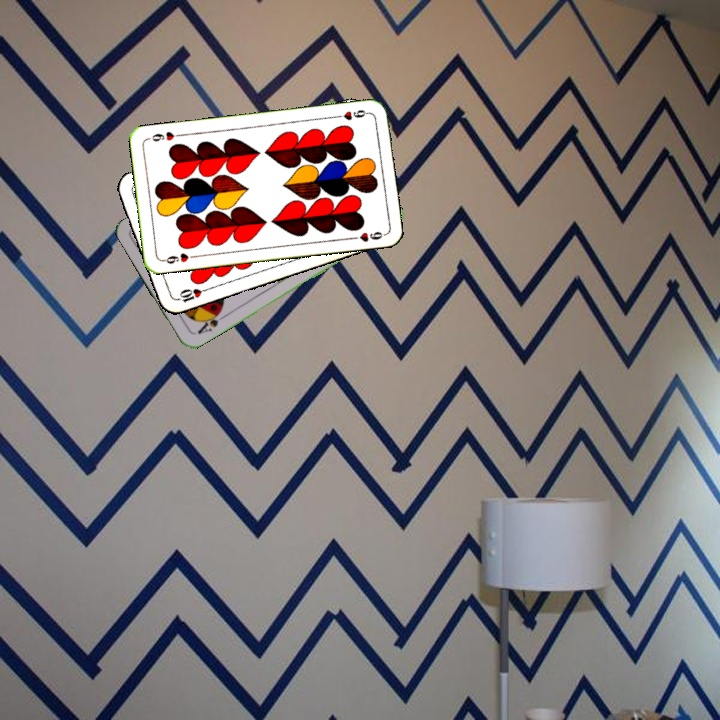H10: (171, 284, 210, 305)
H9: (158, 249, 199, 266), (331, 106, 372, 123)
SA: (193, 306, 228, 337)
